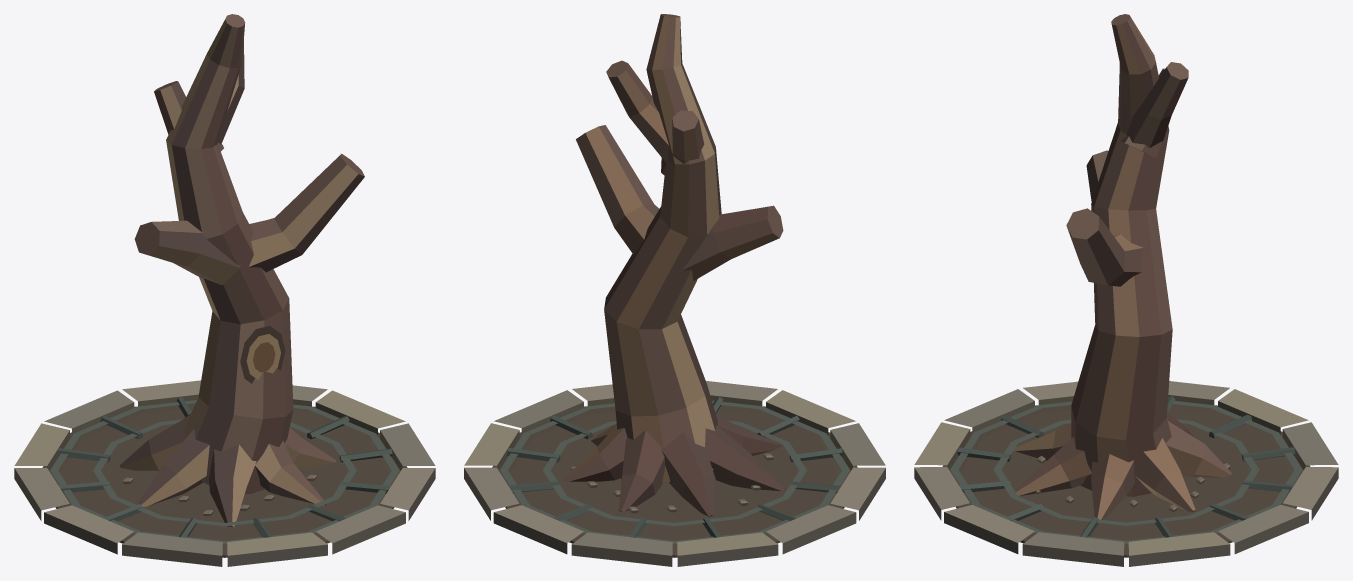
Rendered from apple_trunk.glb.
3 renders of one model, left to right at view 1: azimuth 30°, elevation 25°; view 2: azimuth 150°, elevation 25°; view 3: azimuth 270°, elevation 25°, orthographic.
Parts seen in each view (by area): view 1: apple_trunk; view 2: apple_trunk; view 3: apple_trunk.
Boxes of the visible parts, left/top/right/bottom form: apple_trunk: left=14, top=14, right=435, bottom=566; apple_trunk: left=464, top=14, right=885, bottom=566; apple_trunk: left=914, top=14, right=1338, bottom=566.
Size of the model in its own units: 1.48 by 1.81 by 1.48.
